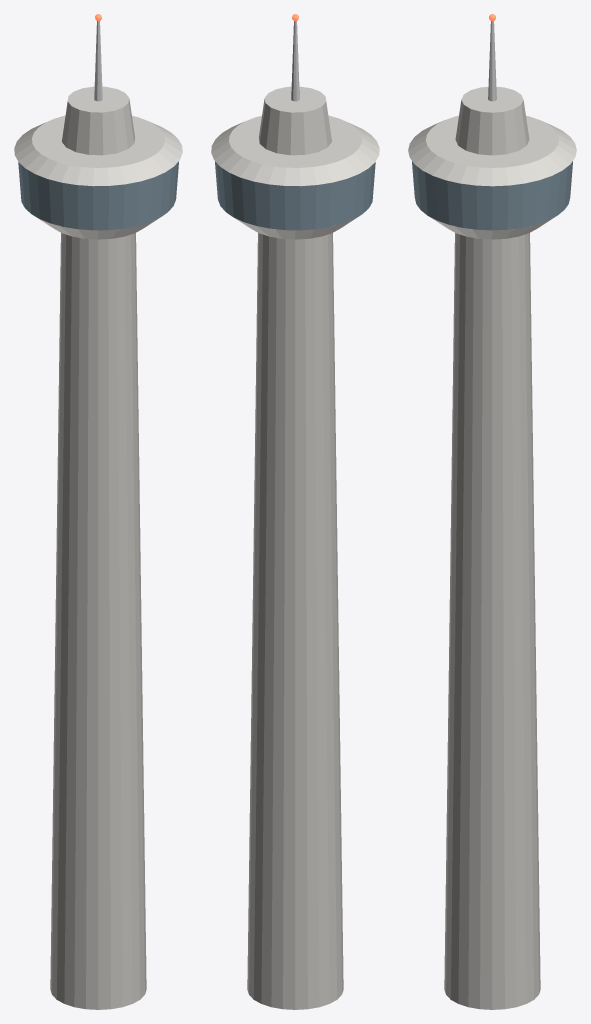
The model's file is beacon.glb.
The picture shows the model from 3 angles, left to right: view 1: azimuth 30°, elevation 25°; view 2: azimuth 150°, elevation 25°; view 3: azimuth 270°, elevation 25°; orthographic projection.
Visible parts, largest first — view 1: beacon; view 2: beacon; view 3: beacon.
Part boxes in pixels (x1,y1,x2,y2): beacon: (14, 14, 182, 1009); beacon: (211, 14, 379, 1009); beacon: (408, 14, 576, 1009).
Bounding box in the file's own units: 22.8 × 145 × 22.8.
